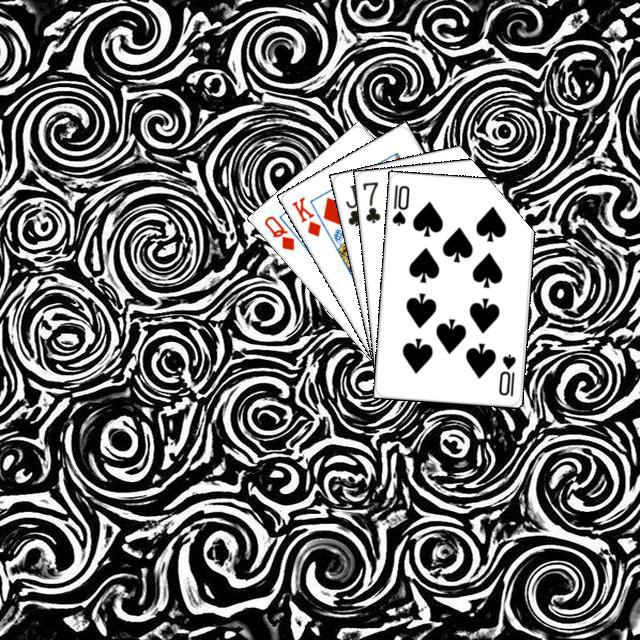10s: (493, 349, 517, 398), (387, 180, 411, 227)
7c: (357, 177, 382, 225)
Jc: (340, 180, 365, 228)
Kd: (286, 192, 323, 238)
Qd: (259, 211, 296, 252)
